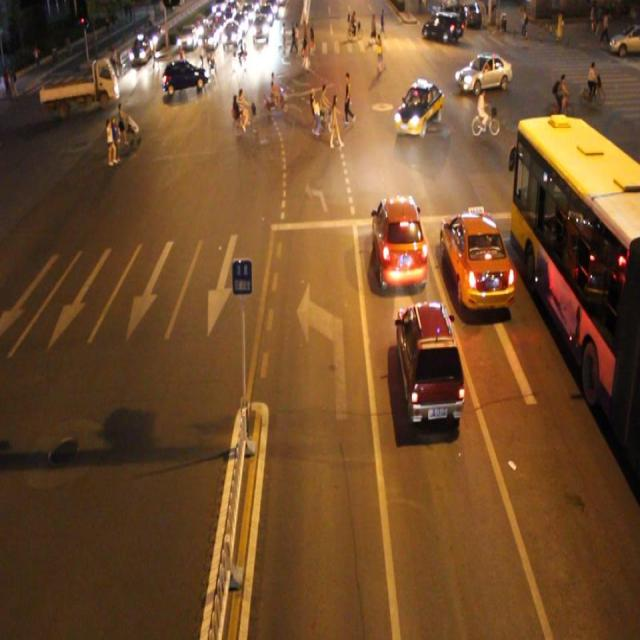bus: (39, 56, 120, 115)
car: (395, 297, 466, 422), (440, 204, 518, 308), (373, 192, 429, 288), (393, 80, 444, 138), (455, 51, 510, 97), (160, 57, 210, 95)
van: (511, 116, 640, 468)
